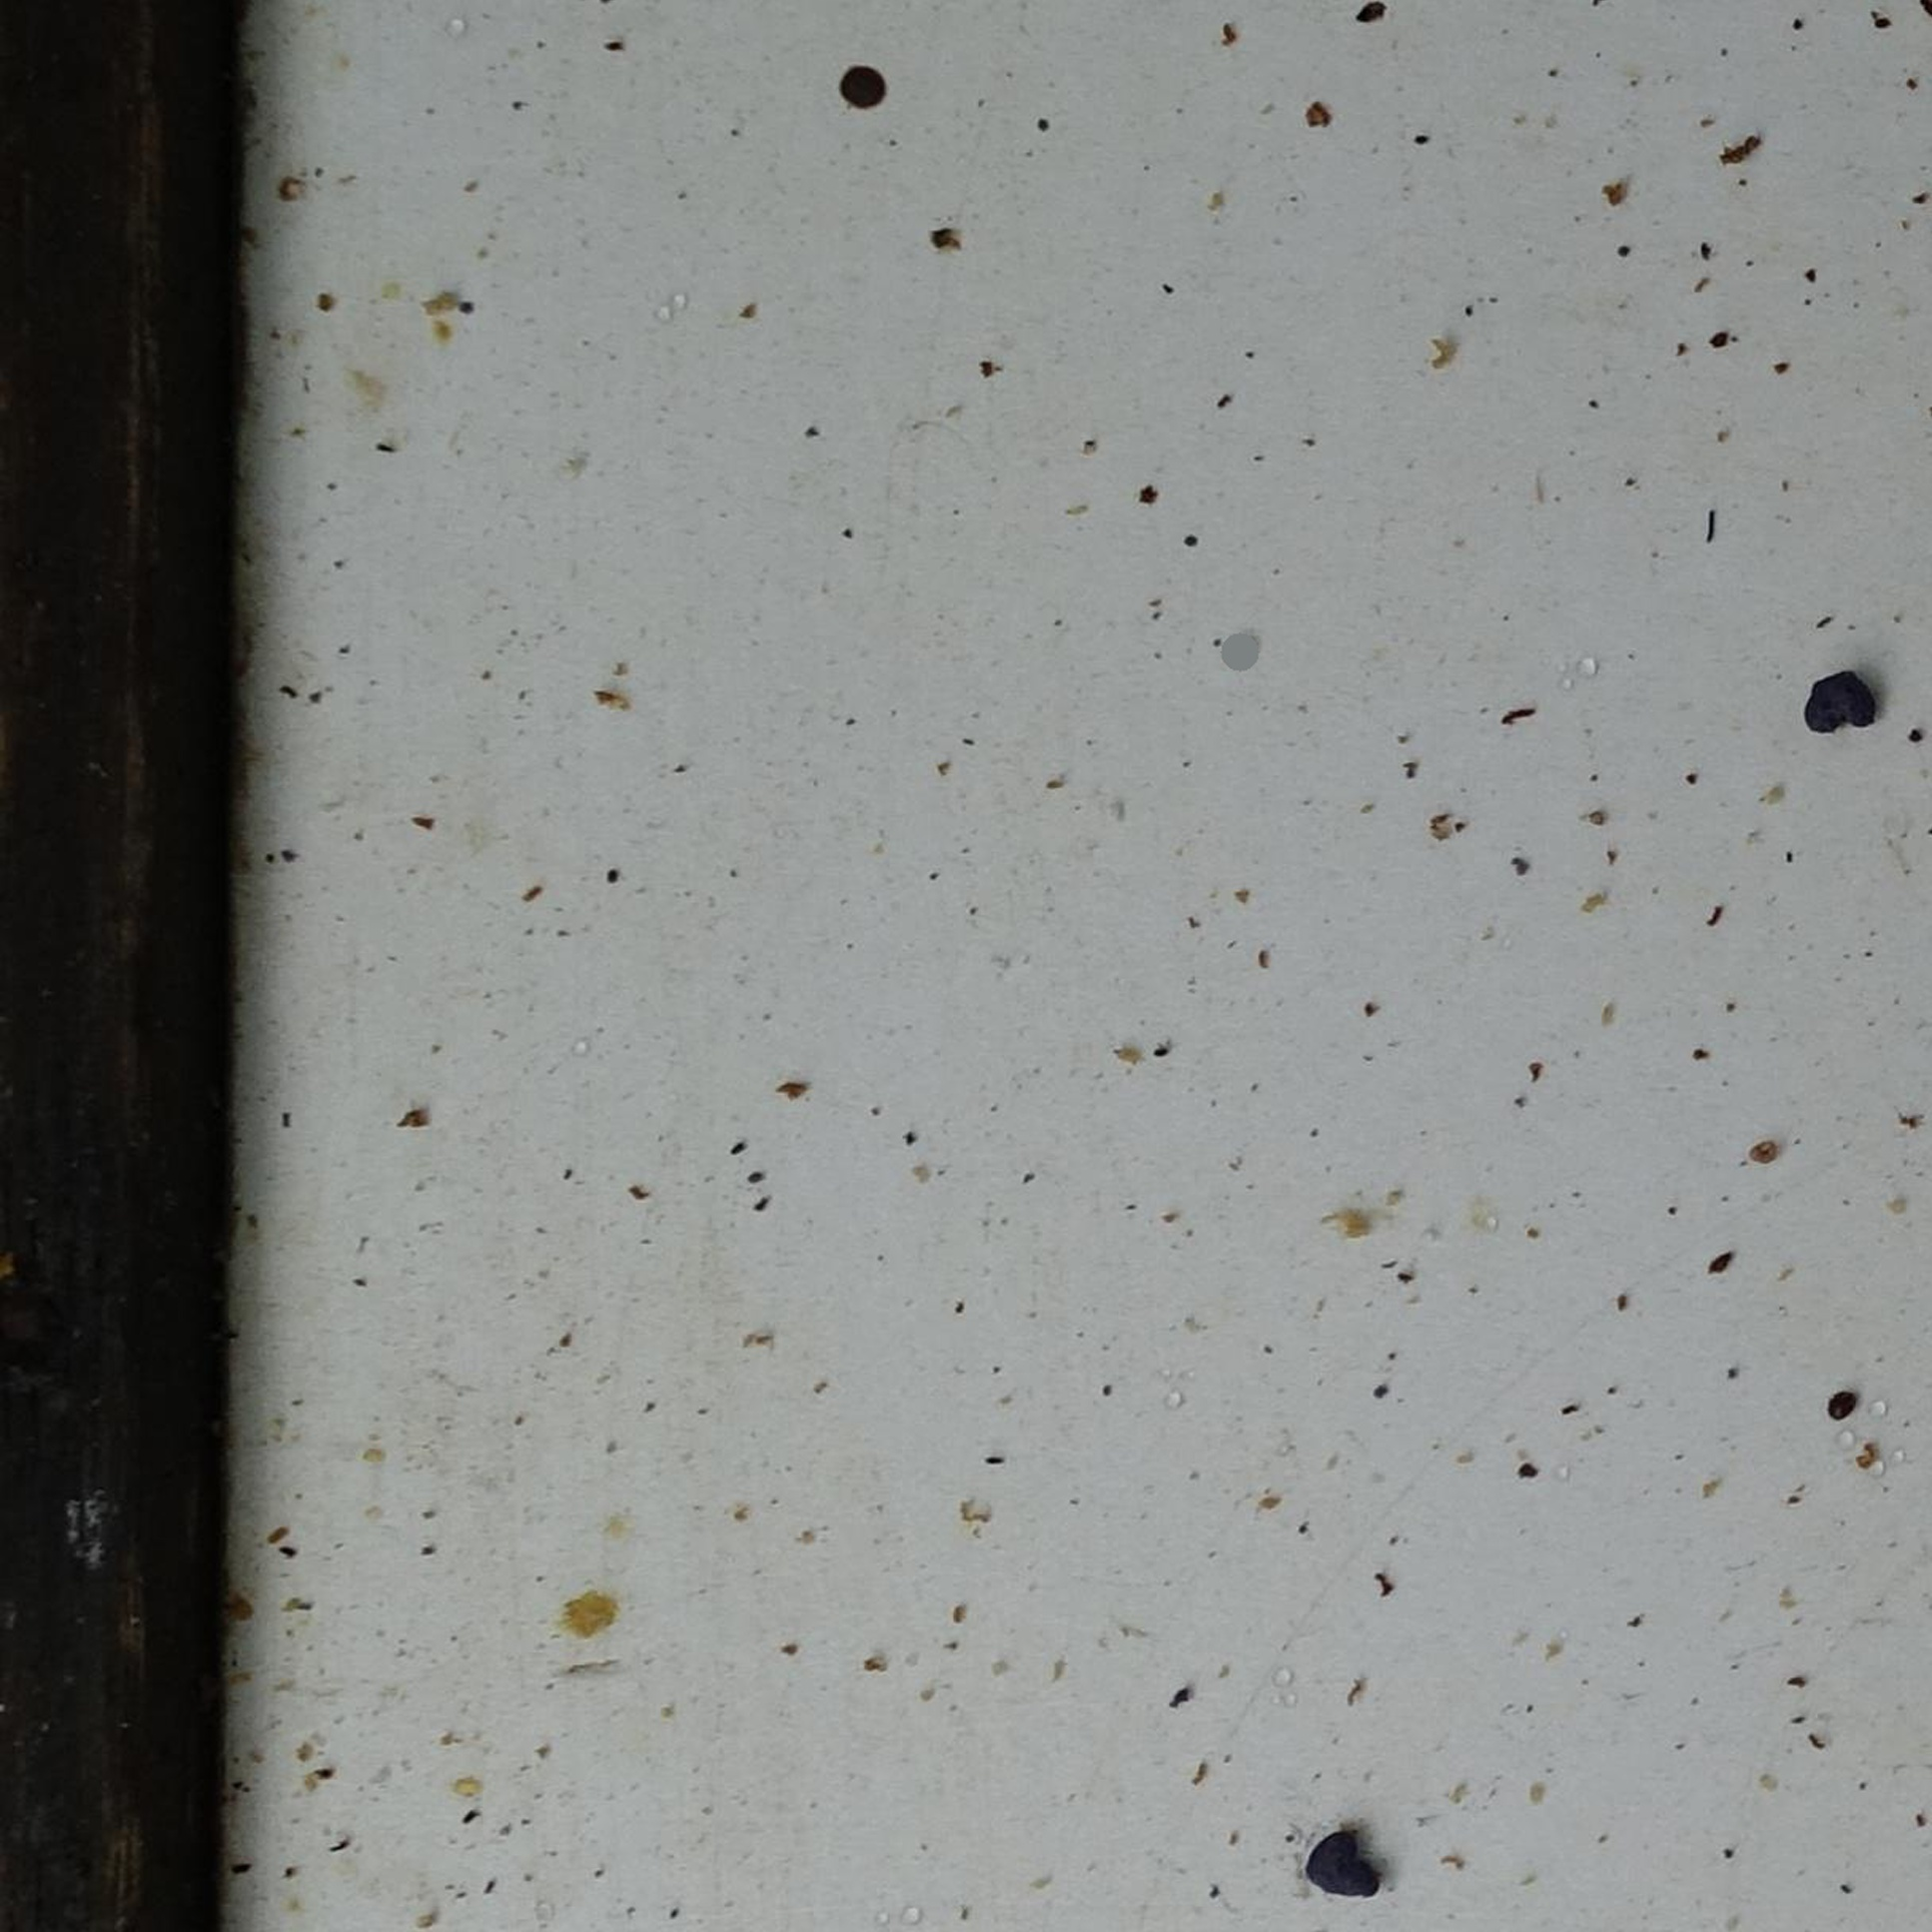Varroa: (1828, 1403, 1842, 1417), (1842, 1396, 1854, 1412)
